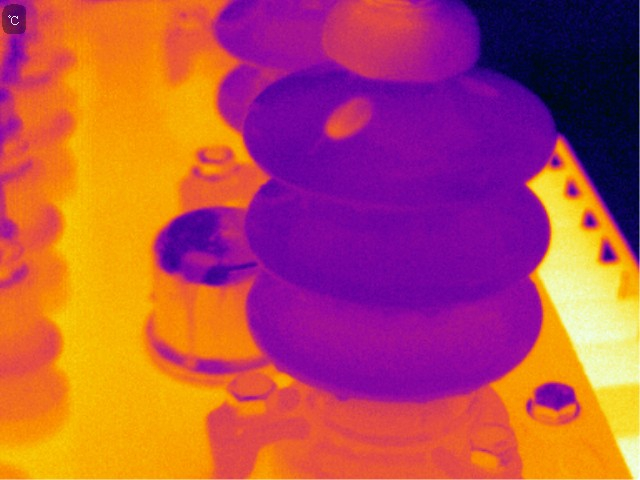Oil: (317, 1, 434, 82), (322, 91, 373, 144), (456, 72, 505, 103), (331, 384, 351, 403)
